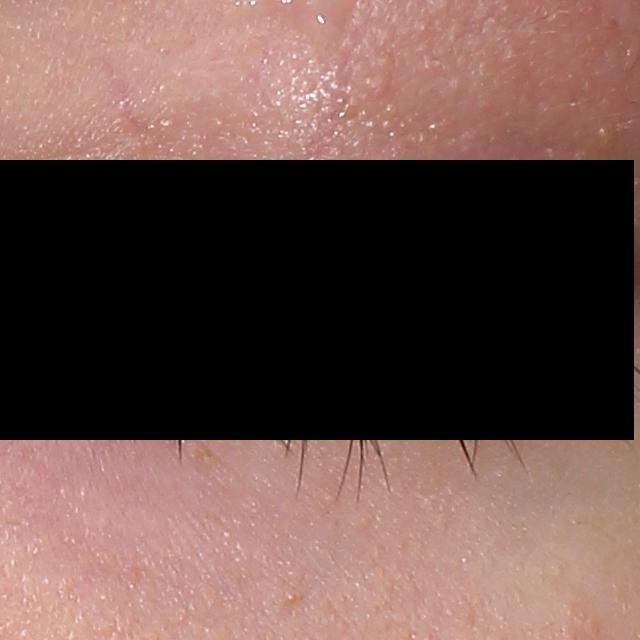comedo: (284, 591, 296, 603)
